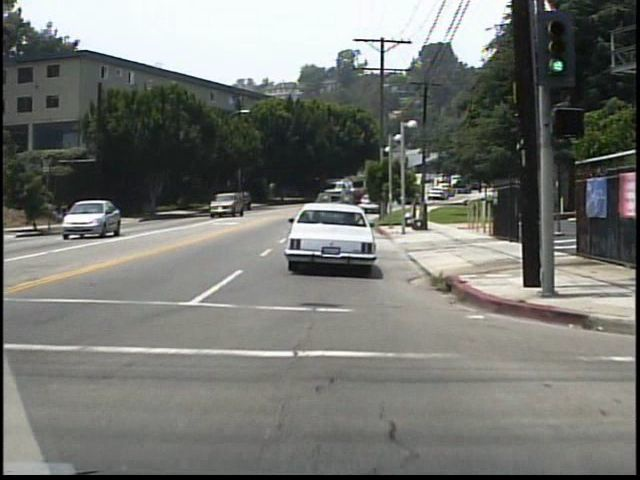person: (61, 202, 73, 229)
